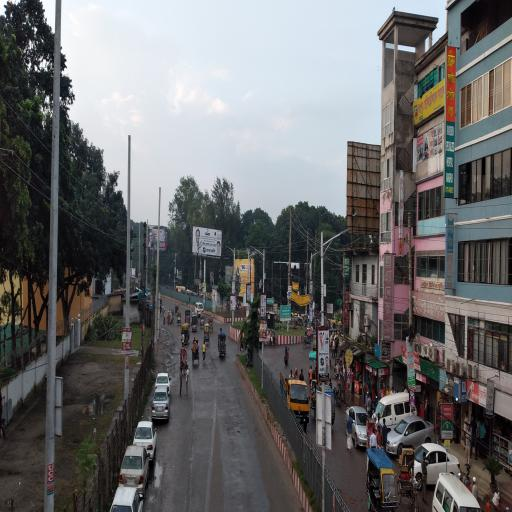auto rickshaw: (320, 384, 336, 427), (218, 334, 227, 358), (310, 352, 318, 379), (182, 325, 191, 346), (192, 316, 198, 333), (314, 335, 318, 351), (186, 311, 191, 323)
bicycle: (270, 337, 279, 348), (203, 349, 207, 365)
car: (415, 445, 461, 491), (388, 419, 438, 458), (120, 442, 151, 492), (133, 422, 158, 463), (346, 407, 369, 449), (111, 486, 145, 512), (153, 385, 171, 424), (157, 372, 172, 392)
motorbike: (334, 386, 342, 407), (335, 365, 343, 380)
rickshaw: (398, 445, 420, 512), (367, 419, 385, 466), (311, 380, 319, 421), (193, 340, 200, 368), (181, 347, 187, 377), (304, 329, 312, 349), (205, 325, 211, 345), (166, 311, 176, 323), (209, 317, 214, 332), (177, 311, 182, 326), (201, 313, 205, 329), (176, 303, 179, 316)
truck: (281, 370, 310, 435)
van: (434, 473, 478, 512), (376, 392, 418, 429), (196, 303, 204, 318)
